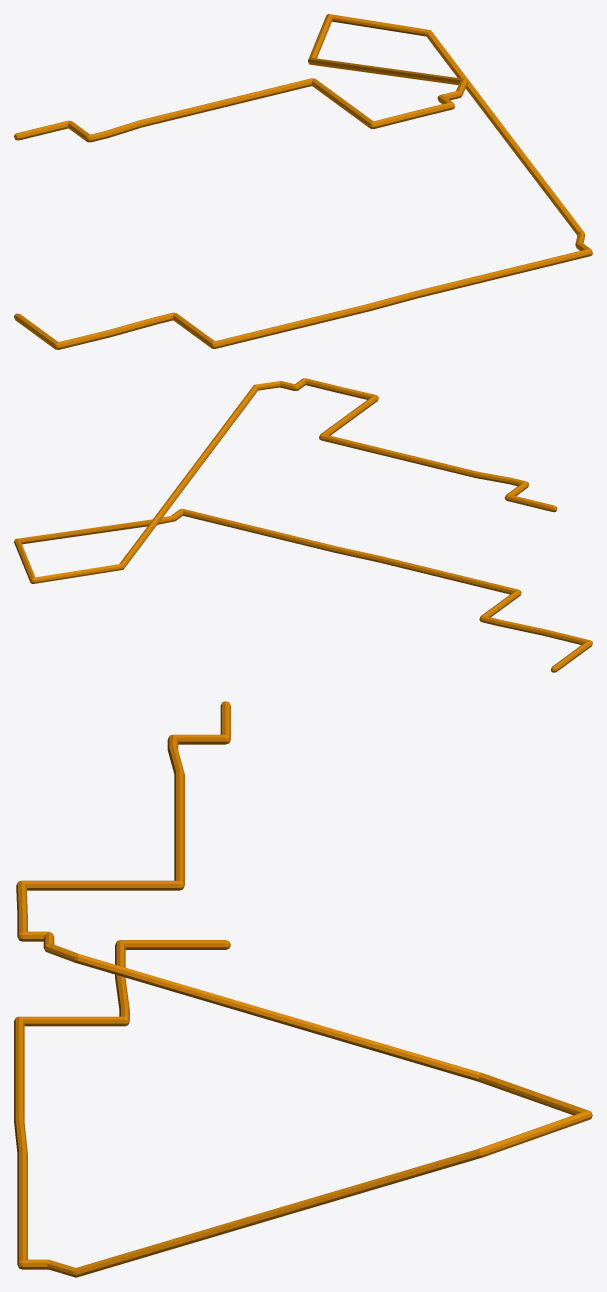
The picture shows the model from 3 angles, top to bottom: view 1: azimuth 30°, elevation 25°; view 2: azimuth 150°, elevation 25°; view 3: azimuth 270°, elevation 25°; orthographic projection. The views are drawn at different scales.
Size of the model in its own units: 1492 by 520 by 1098.
